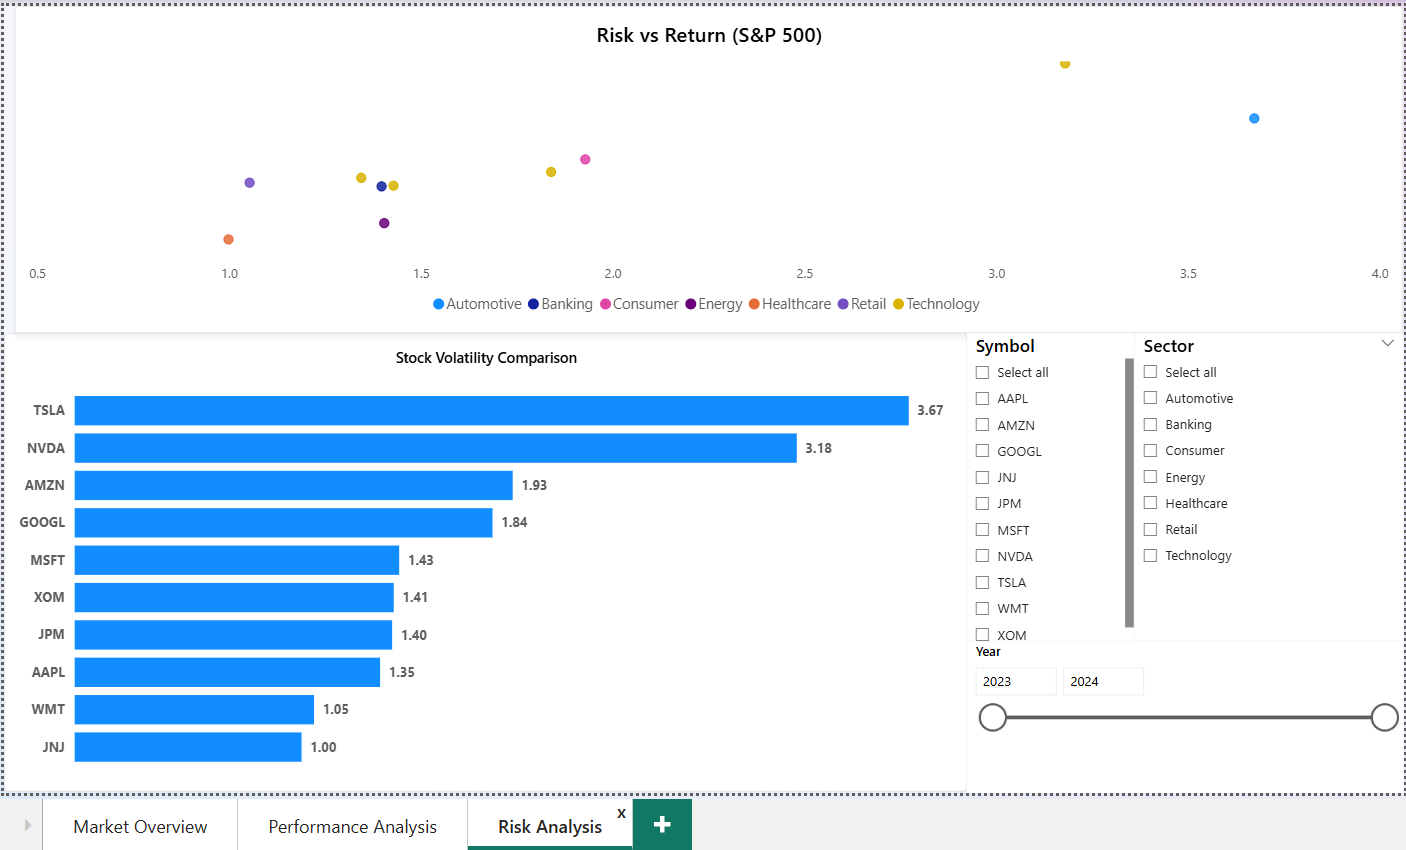

The page's visual inventory and layout, read from the dashboard file:
{"tool":"powerbi","page":{"name":"Risk Analysis","canvas":[1280,720],"ordinal":2},"visuals":[{"type":"clusteredBarChart","title":"Stock Volatility Comparison","fields":{"Category":["Summary_Stats.Symbol"],"Y":["Sum(Summary_Stats.Volatility_Risk)"]},"box":[0,299.8,881.3,419.4],"z":0},{"type":"scatterChart","title":"Risk vs Return (S&P 500)","fields":{"X":["Avg(Summary_Stats.Volatility_Risk)"],"Y":["Avg(Summary_Stats.Avg_Daily_Return)"],"Category":["Summary_Stats.Symbol"],"Series":["Summary_Stats.Sector"]},"box":[9.1,0,1270.4,299.8],"z":1000},{"type":"slicer","fields":{"Values":["Summary_Stats.Symbol"]},"box":[881.3,299.8,152.9,281.6],"z":1001},{"type":"slicer","fields":{"Values":["Summary_Stats.Sector"]},"box":[1034.2,299.8,245.3,281.6],"z":1002},{"type":"slicer","fields":{"Values":["Stock_Data.Year"]},"box":[881.3,581.5,398.2,137.8],"z":1003}]}

Visuals, with their boxes on the page's 1280x720 design canvas (x1, y1, x2, y2). These are canvas units, not pixel positions in the 1406x850 screenshot, which may show the page scaled, cropped or inside an application window:
"Stock Volatility Comparison" clusteredBarChart: bbox=[0, 300, 881, 719]
"Risk vs Return (S&P 500)" scatterChart: bbox=[9, 0, 1280, 300]
slicer - Summary_Stats.Symbol: bbox=[881, 300, 1034, 581]
slicer - Summary_Stats.Sector: bbox=[1034, 300, 1280, 581]
slicer - Stock_Data.Year: bbox=[881, 582, 1280, 719]
